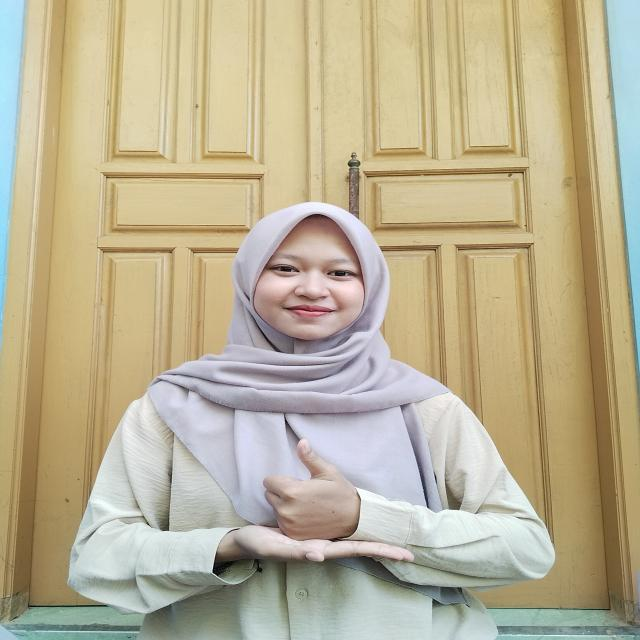cantik: (203, 442, 421, 573)
